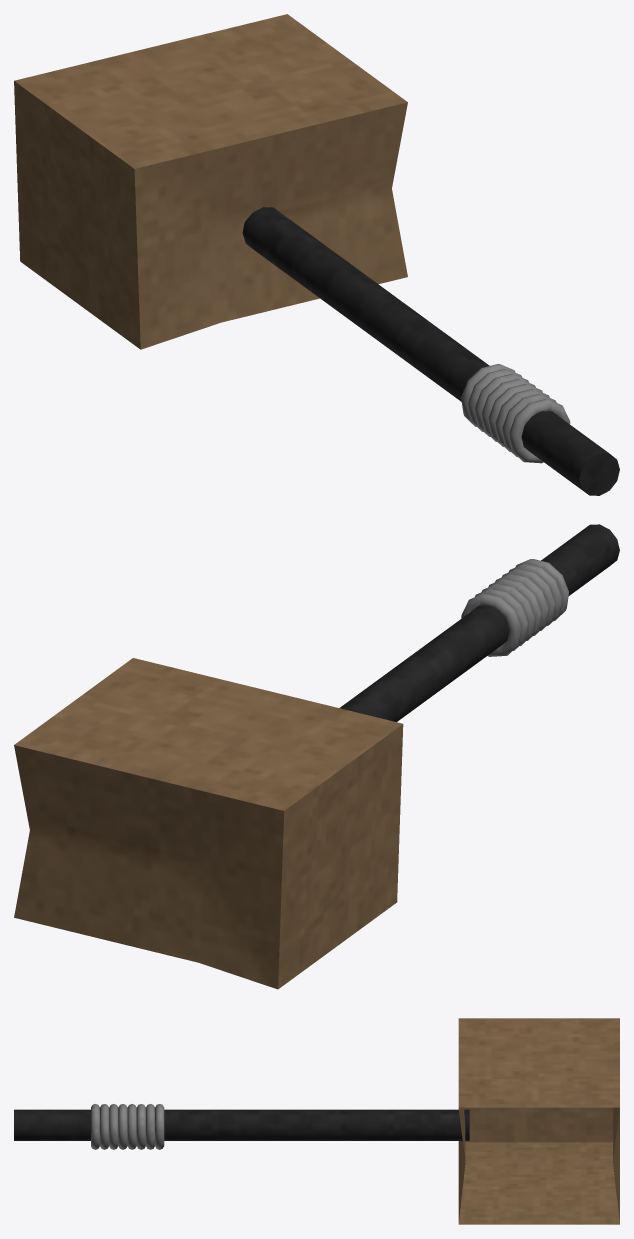
Rendered from BagHammer.fbx.
3 views of the same model, one above another, from view 1: azimuth 30°, elevation 25°; view 2: azimuth 150°, elevation 25°; view 3: azimuth 270°, elevation 25° (orthographic). The views are drawn at different scales.
Visible parts, largest first — view 1: bag hammer; view 2: bag hammer; view 3: bag hammer.
Part boxes in pixels (bbox=[...]): bag hammer: bbox=[14, 14, 619, 495]; bag hammer: bbox=[14, 524, 619, 989]; bag hammer: bbox=[14, 1018, 619, 1224].
Bounding box in the file's own units: 1134 × 722 × 3251.
1 material, 1 textured.
